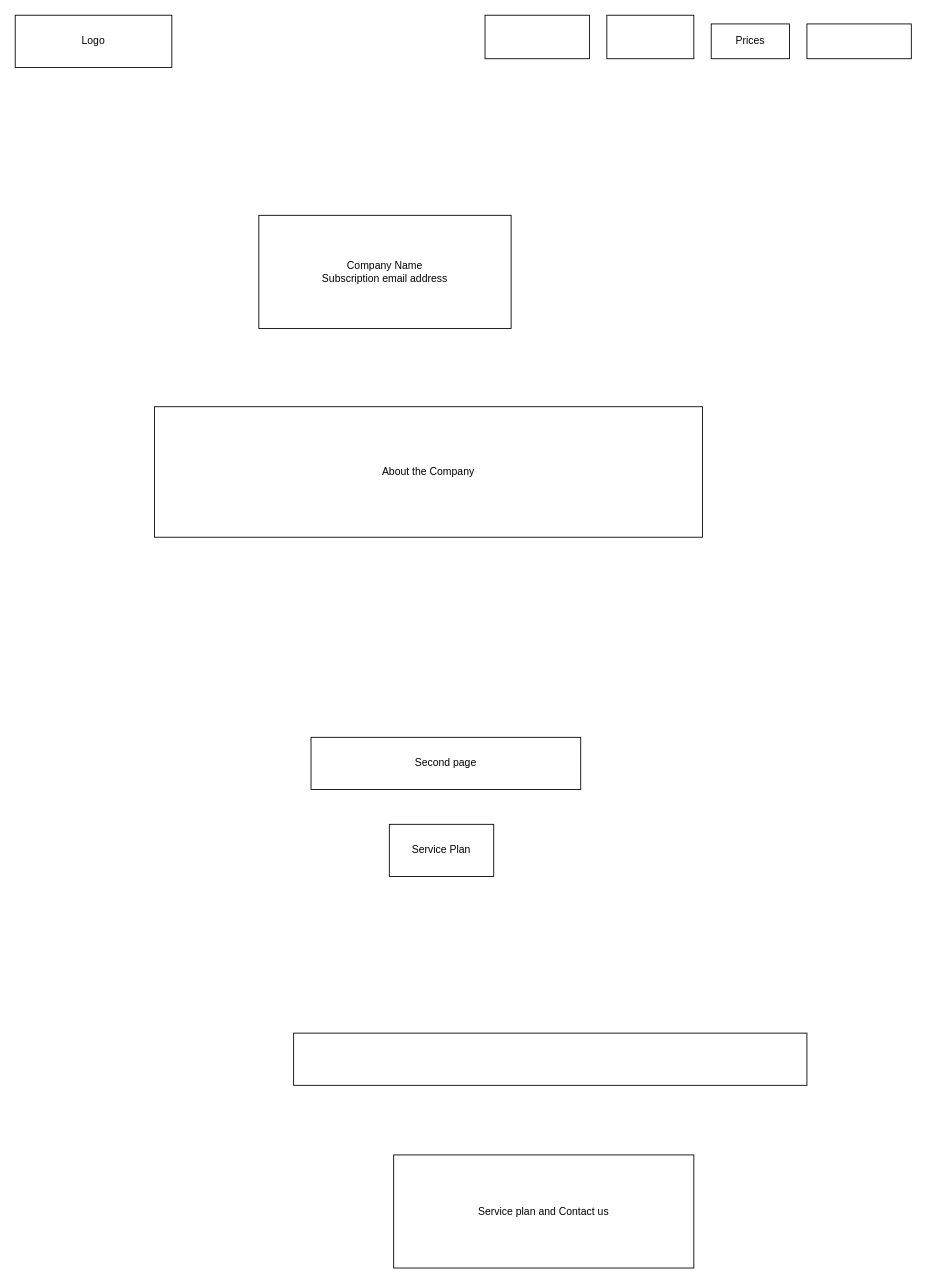
This 927x1283 diagram has some shape labels left out. The shapes that lost their labels are listed below. From the top down, each one's centre as x and y in pixels, then its label:
At (536,36): "Company/about page".
At (650,36): "services".
At (858,41): "Contact Us".
At (550,1058): "Third Page".
